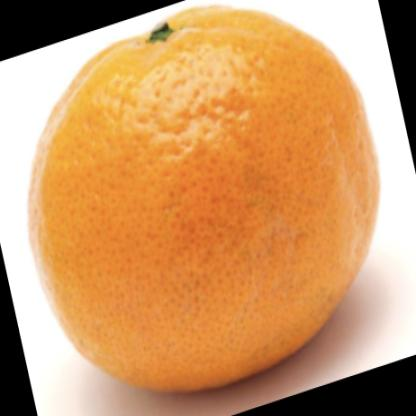fresh: (33, 7, 379, 384)
